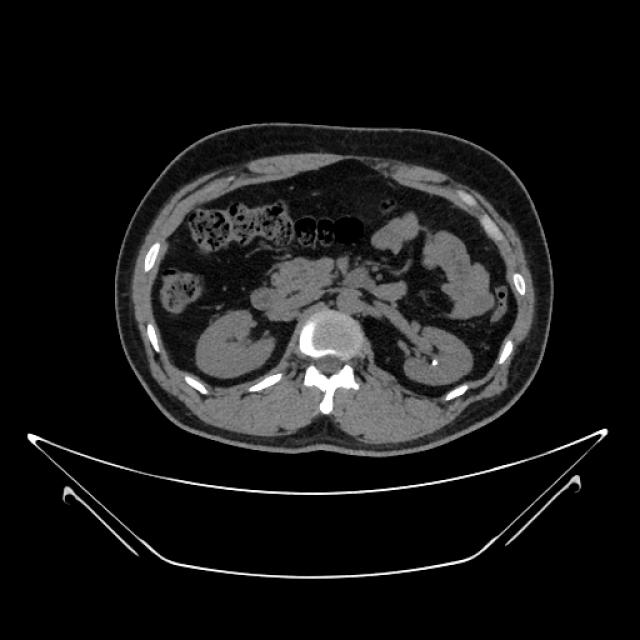kidneystone: (431, 359, 436, 366)
